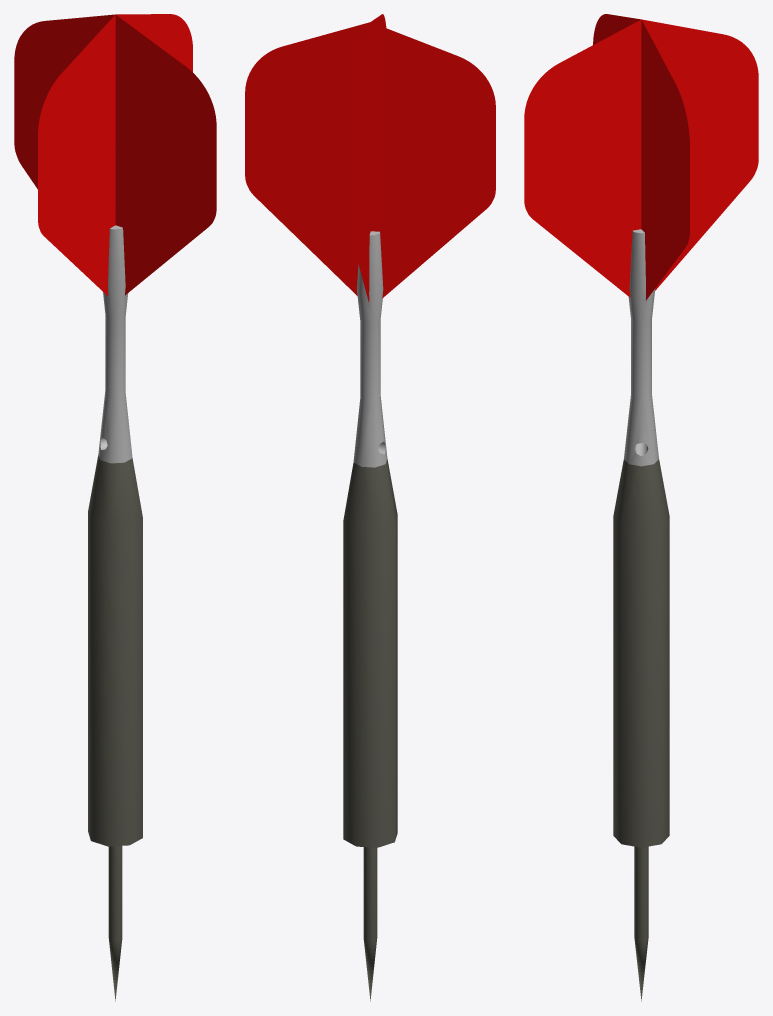
Rendered from DartModel.fbx.
3 renders of one model, left to right at view 1: azimuth 30°, elevation 25°; view 2: azimuth 150°, elevation 25°; view 3: azimuth 270°, elevation 25°, orthographic.
Visible parts, largest first — view 1: Group_1_1, Dart_Barrel1, Group_1_4, Group_1_2, Dart_Fletching_Holder1, Group_1_3, Steel_Tip1; view 2: Group_1_4, Group_1_3, Dart_Barrel1, Dart_Fletching_Holder1, Group_1_2, Steel_Tip1; view 3: Group_1_1, Dart_Barrel1, Group_1_2, Group_1_3, Dart_Fletching_Holder1, Steel_Tip1, Group_1_4.
Part boxes in pixels (left/top/right/bottom): Group_1_1: left=115, top=15, right=216, bottom=295; Dart_Barrel1: left=88, top=455, right=142, bottom=846; Group_1_4: left=38, top=14, right=115, bottom=295; Group_1_2: left=14, top=14, right=115, bottom=189; Dart_Fletching_Holder1: left=98, top=225, right=132, bottom=463; Group_1_3: left=116, top=14, right=192, bottom=71; Steel_Tip1: left=108, top=846, right=122, bottom=1001; Group_1_4: left=370, top=22, right=495, bottom=298; Group_1_3: left=245, top=22, right=370, bottom=295; Dart_Barrel1: left=343, top=459, right=397, bottom=847; Dart_Fletching_Holder1: left=353, top=231, right=387, bottom=467; Group_1_2: left=354, top=24, right=370, bottom=302; Steel_Tip1: left=363, top=847, right=377, bottom=1001; Group_1_1: left=524, top=20, right=641, bottom=297; Dart_Barrel1: left=613, top=459, right=669, bottom=847; Group_1_2: left=641, top=19, right=758, bottom=290; Group_1_3: left=641, top=19, right=689, bottom=300; Dart_Fletching_Holder1: left=624, top=229, right=658, bottom=466; Steel_Tip1: left=634, top=846, right=648, bottom=1001; Group_1_4: left=593, top=14, right=640, bottom=44.
Size of the model in its own units: 1.31 by 6.06 by 1.31.
